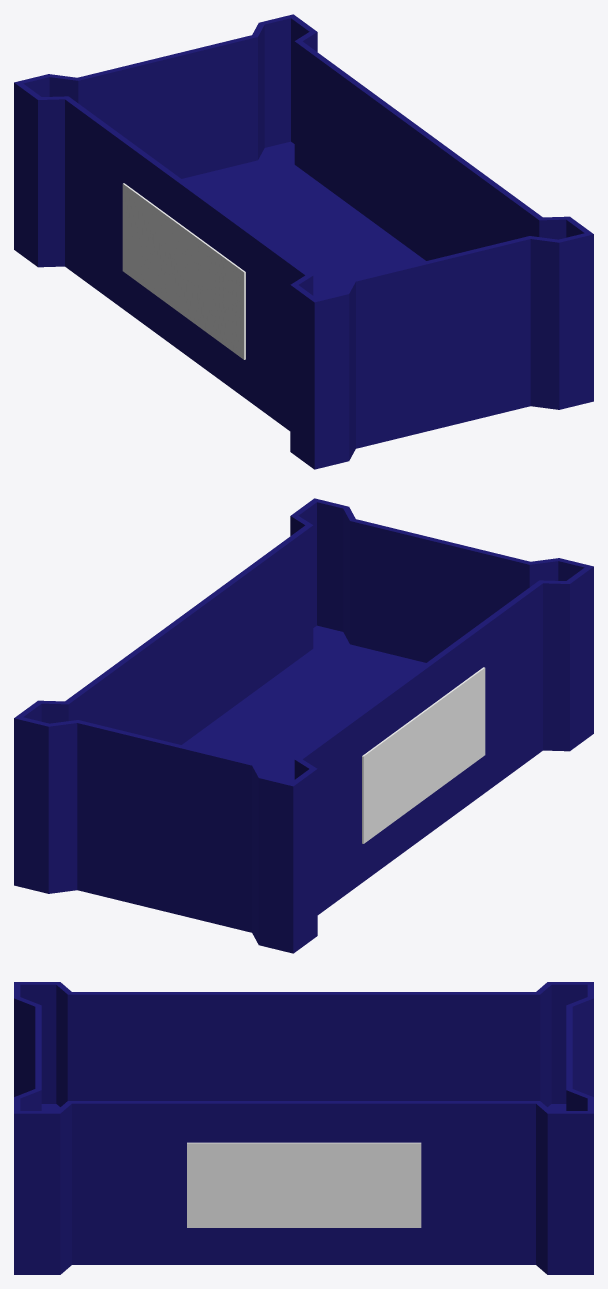
Rendered from SM_box_special_01.fbx.
The picture shows the model from 3 angles, top to bottom: view 1: azimuth 30°, elevation 25°; view 2: azimuth 150°, elevation 25°; view 3: azimuth 270°, elevation 25°; orthographic projection. The views are drawn at different scales.
Parts seen in each view (by area): view 1: box_special_01; view 2: box_special_01; view 3: box_special_01.
Boxes of the visible parts, bbox=[...] form: box_special_01: bbox=[14, 14, 593, 469]; box_special_01: bbox=[14, 498, 593, 953]; box_special_01: bbox=[14, 982, 593, 1274].
Bounding box in the file's own units: 65.67 × 37.55 × 122.
